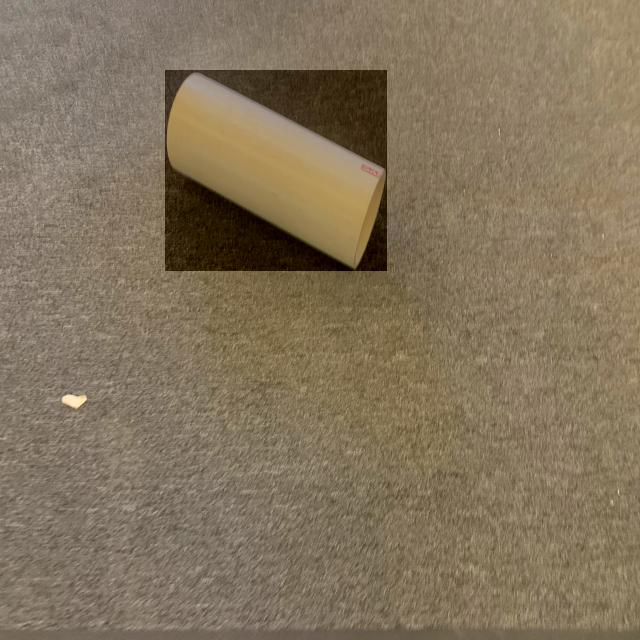Coral: (165, 70, 387, 271)
